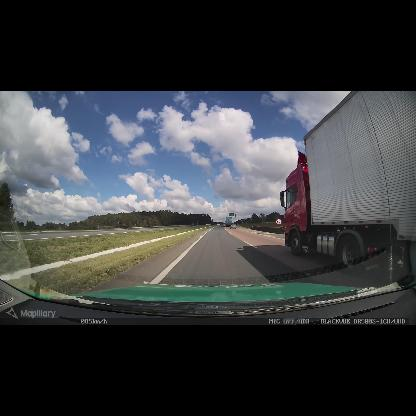R-19: (276, 219, 282, 225)
